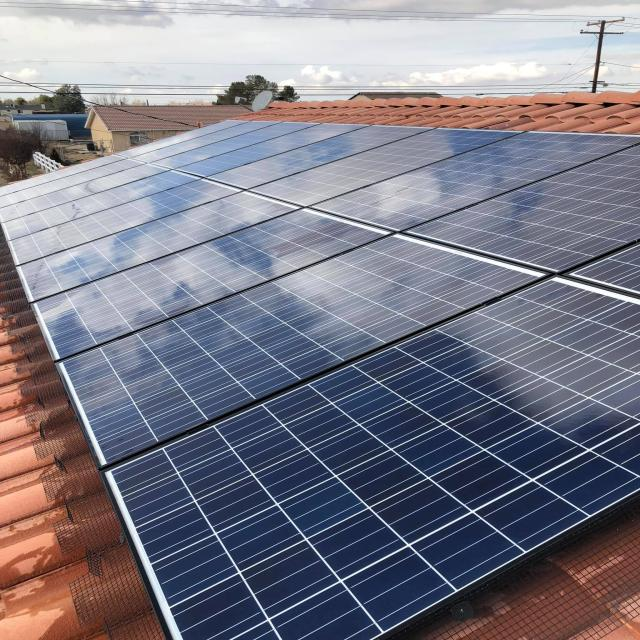clean-solar-panel: (107, 281, 638, 640)
